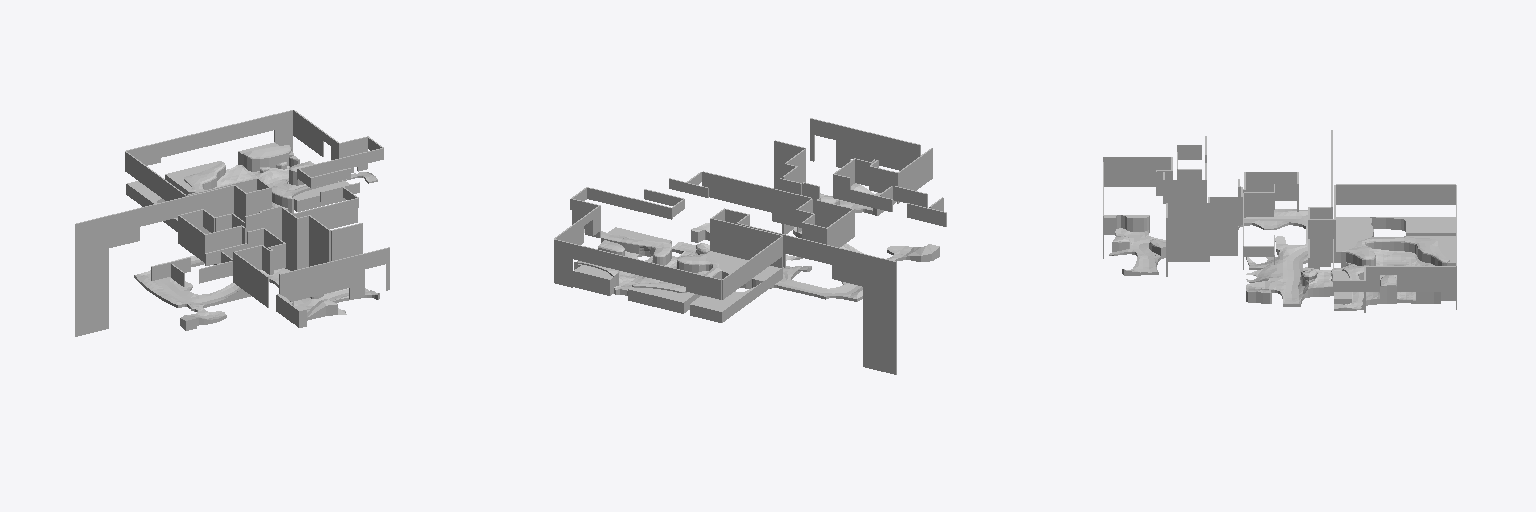
Rendered from keep1ground.obj.
3 views of the same model, side by side, from view 1: azimuth 30°, elevation 25°; view 2: azimuth 150°, elevation 25°; view 3: azimuth 270°, elevation 25° (orthographic).
Parts seen in each view (by area): view 1: entity0_brush3, entity0_brush8, entity0_brush18, entity0_brush42, entity0_brush2, entity0_brush45, entity0_brush21, entity0_brush16, entity0_brush14, entity0_brush4, entity0_brush53, entity0_brush6 (+7 smaller); view 2: entity0_brush3, entity0_brush18, entity0_brush8, entity0_brush45, entity0_brush1, entity0_brush2, entity0_brush42, entity0_brush34, entity0_brush4, entity0_brush15, entity0_brush0, entity0_brush30 (+8 smaller); view 3: entity0_brush2, entity0_brush14, entity0_brush42, entity0_brush6, entity0_brush53, entity0_brush27, entity0_brush30, entity0_brush41.
Boxes of the visible parts, box(x1,y1,x2,y2) form: entity0_brush3: box(75, 216, 108, 336); entity0_brush8: box(290, 257, 349, 301); entity0_brush18: box(161, 114, 274, 157); entity0_brush42: box(233, 252, 268, 307); entity0_brush2: box(125, 151, 185, 200); entity0_brush45: box(293, 198, 357, 228); entity0_brush21: box(186, 185, 233, 216); entity0_brush16: box(331, 223, 362, 260); entity0_brush14: box(309, 215, 330, 266); entity0_brush4: box(140, 197, 186, 226); entity0_brush53: box(293, 110, 323, 156); entity0_brush6: box(282, 208, 297, 270); entity0_brush3: box(863, 254, 896, 374); entity0_brush18: box(573, 244, 685, 286); entity0_brush8: box(850, 128, 909, 170); entity0_brush45: box(702, 171, 772, 212); entity0_brush1: box(724, 221, 782, 278); entity0_brush2: box(722, 236, 782, 299); entity0_brush42: box(897, 148, 932, 203); entity0_brush34: box(772, 188, 810, 226); entity0_brush4: box(785, 235, 831, 264); entity0_brush15: box(554, 239, 572, 287); entity0_brush0: box(686, 271, 721, 299); entity0_brush30: box(827, 209, 854, 247); entity0_brush2: box(1336, 184, 1455, 204); entity0_brush14: box(1168, 203, 1209, 261); entity0_brush42: box(1103, 157, 1170, 186); entity0_brush6: box(1210, 197, 1237, 255); entity0_brush53: box(1397, 266, 1455, 291); entity0_brush27: box(1163, 180, 1204, 203); entity0_brush30: box(1246, 172, 1296, 191); entity0_brush41: box(1244, 192, 1273, 216).
Size of the model in its own units: 3680 by 1408 by 3648.